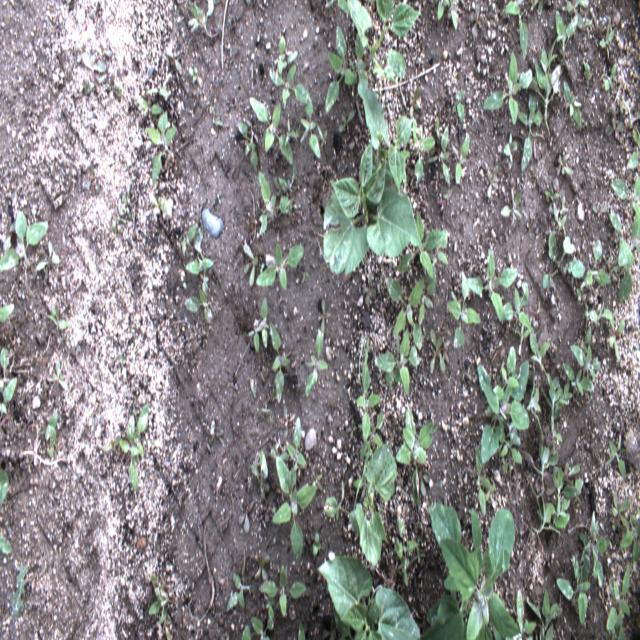crop: (322, 142, 422, 276), (313, 555, 420, 637), (346, 0, 422, 97), (358, 85, 412, 192), (354, 439, 398, 568)
weed: (421, 498, 521, 638), (476, 361, 530, 466), (272, 458, 320, 566), (394, 405, 438, 509), (467, 245, 518, 325), (481, 49, 534, 124), (395, 209, 450, 280), (384, 274, 424, 354), (374, 331, 424, 395), (248, 98, 293, 165), (531, 43, 563, 136), (0, 209, 47, 272), (324, 21, 356, 113), (447, 268, 482, 349), (610, 210, 639, 303), (144, 111, 179, 188), (259, 564, 306, 621), (522, 414, 560, 484), (122, 400, 150, 494), (531, 356, 572, 420), (556, 554, 590, 630), (255, 172, 293, 239), (540, 236, 584, 291), (579, 506, 609, 586), (254, 242, 304, 288), (519, 91, 543, 174), (402, 120, 433, 184), (356, 358, 380, 438), (553, 464, 582, 530), (526, 588, 564, 637), (267, 66, 309, 110), (184, 229, 213, 291), (396, 512, 421, 580), (81, 44, 113, 96), (270, 323, 290, 405), (426, 126, 452, 188), (304, 331, 328, 398), (227, 547, 251, 613), (605, 568, 630, 630), (149, 574, 172, 640), (504, 0, 529, 60), (300, 94, 322, 159), (236, 118, 261, 175), (503, 281, 531, 331), (584, 240, 612, 290), (554, 10, 578, 68), (358, 412, 386, 460), (474, 445, 491, 520), (604, 434, 628, 487), (533, 489, 557, 542), (8, 564, 30, 621), (618, 512, 640, 565), (494, 346, 516, 399), (562, 361, 594, 397), (610, 175, 639, 214), (323, 498, 354, 534), (562, 78, 583, 131), (187, 0, 215, 39), (249, 296, 268, 353), (570, 344, 600, 380), (417, 273, 437, 326), (287, 416, 306, 471), (515, 588, 535, 638), (455, 134, 472, 192), (251, 449, 269, 502), (184, 288, 212, 322), (35, 239, 61, 275), (527, 324, 552, 359), (82, 162, 104, 201), (500, 190, 522, 228), (526, 366, 542, 418), (606, 318, 624, 364), (237, 491, 256, 534), (429, 325, 446, 373), (0, 380, 18, 425), (610, 489, 629, 531), (46, 362, 70, 394), (43, 413, 60, 458), (273, 165, 296, 198), (357, 331, 371, 384), (242, 243, 258, 289), (624, 128, 640, 174), (277, 33, 298, 68), (352, 462, 368, 507), (598, 20, 615, 62), (565, 0, 589, 28), (464, 3, 482, 40), (602, 111, 624, 140), (163, 42, 182, 74), (47, 310, 70, 336), (113, 351, 130, 386), (449, 89, 466, 124), (361, 271, 378, 306), (250, 614, 274, 638), (435, 234, 451, 270), (500, 130, 517, 163), (332, 611, 352, 639), (254, 550, 271, 582), (180, 223, 197, 255), (135, 96, 162, 116), (337, 108, 356, 136), (24, 261, 37, 301), (604, 611, 624, 637), (556, 150, 575, 177), (589, 302, 612, 324), (104, 72, 122, 100), (149, 193, 168, 219), (146, 82, 172, 101), (602, 255, 618, 285), (408, 84, 421, 120), (485, 165, 498, 201), (318, 296, 330, 334), (552, 204, 567, 234), (601, 62, 616, 92), (0, 345, 10, 389), (100, 434, 120, 456), (323, 0, 350, 16), (581, 57, 593, 92), (120, 181, 132, 215), (431, 0, 449, 22), (282, 407, 295, 437), (3, 220, 15, 252), (421, 465, 432, 498), (543, 182, 560, 203), (344, 414, 356, 442), (548, 417, 562, 441), (112, 213, 128, 233), (0, 468, 8, 507), (449, 0, 458, 33), (0, 304, 16, 322), (317, 124, 328, 150), (583, 313, 592, 344), (284, 125, 300, 142), (310, 534, 322, 556), (488, 480, 496, 512), (564, 460, 580, 476), (502, 452, 513, 474), (592, 202, 607, 218), (0, 536, 11, 557), (312, 469, 323, 490), (300, 268, 310, 290), (444, 336, 451, 366), (264, 600, 275, 619), (187, 68, 200, 84), (413, 549, 426, 565), (328, 347, 342, 361), (323, 623, 337, 637), (559, 192, 566, 219), (270, 449, 288, 459), (536, 0, 544, 22), (576, 283, 584, 302), (179, 273, 188, 289), (435, 114, 441, 138), (298, 622, 306, 638), (242, 626, 251, 638), (584, 16, 593, 28), (258, 260, 266, 273)
